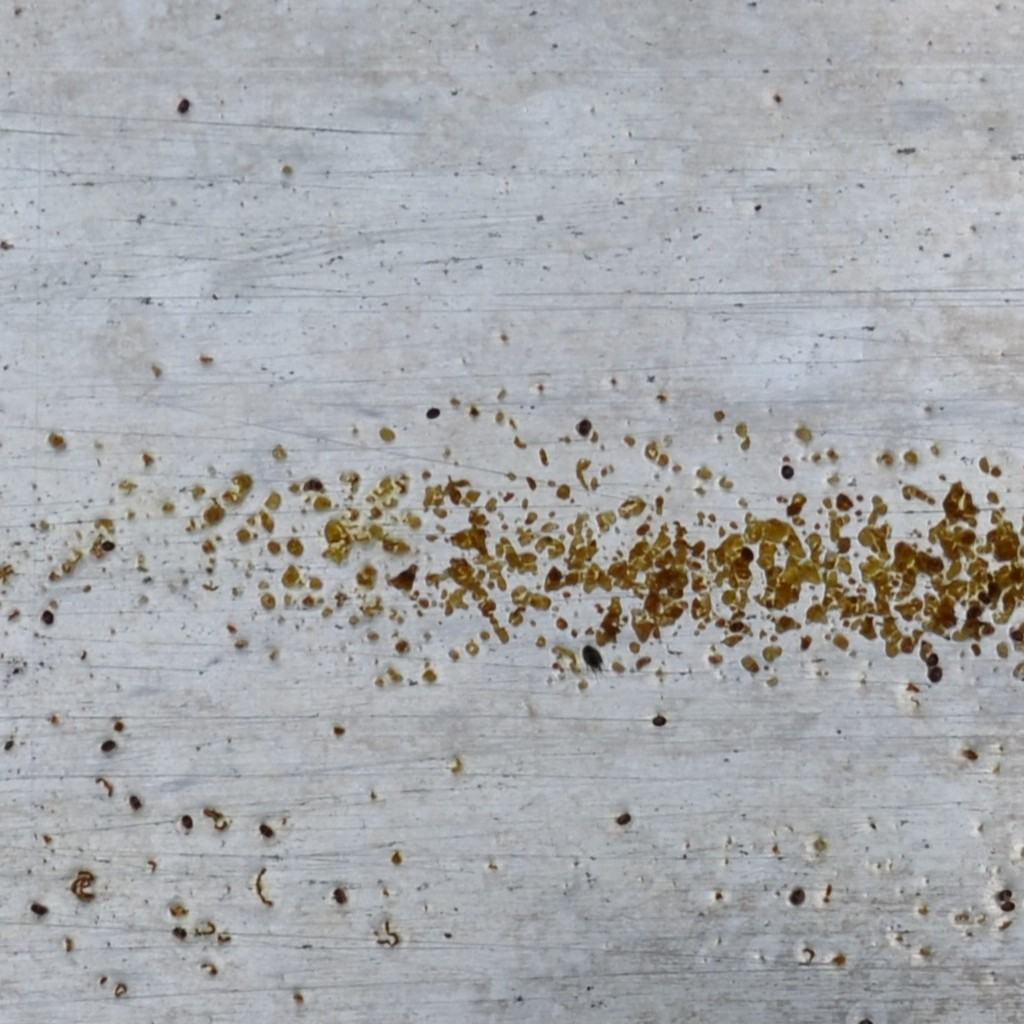varroa: (331, 884, 349, 908), (786, 886, 806, 907), (922, 647, 943, 667), (615, 808, 634, 830), (97, 737, 117, 757), (924, 665, 943, 686), (992, 885, 1014, 903), (258, 818, 276, 840), (126, 791, 142, 815), (29, 901, 50, 919), (179, 810, 196, 832), (575, 415, 591, 438), (98, 537, 117, 555), (651, 712, 670, 729), (779, 462, 795, 482), (175, 95, 190, 116), (739, 546, 756, 564), (425, 403, 442, 421), (977, 587, 992, 607), (1000, 900, 1016, 913), (306, 479, 323, 491)
